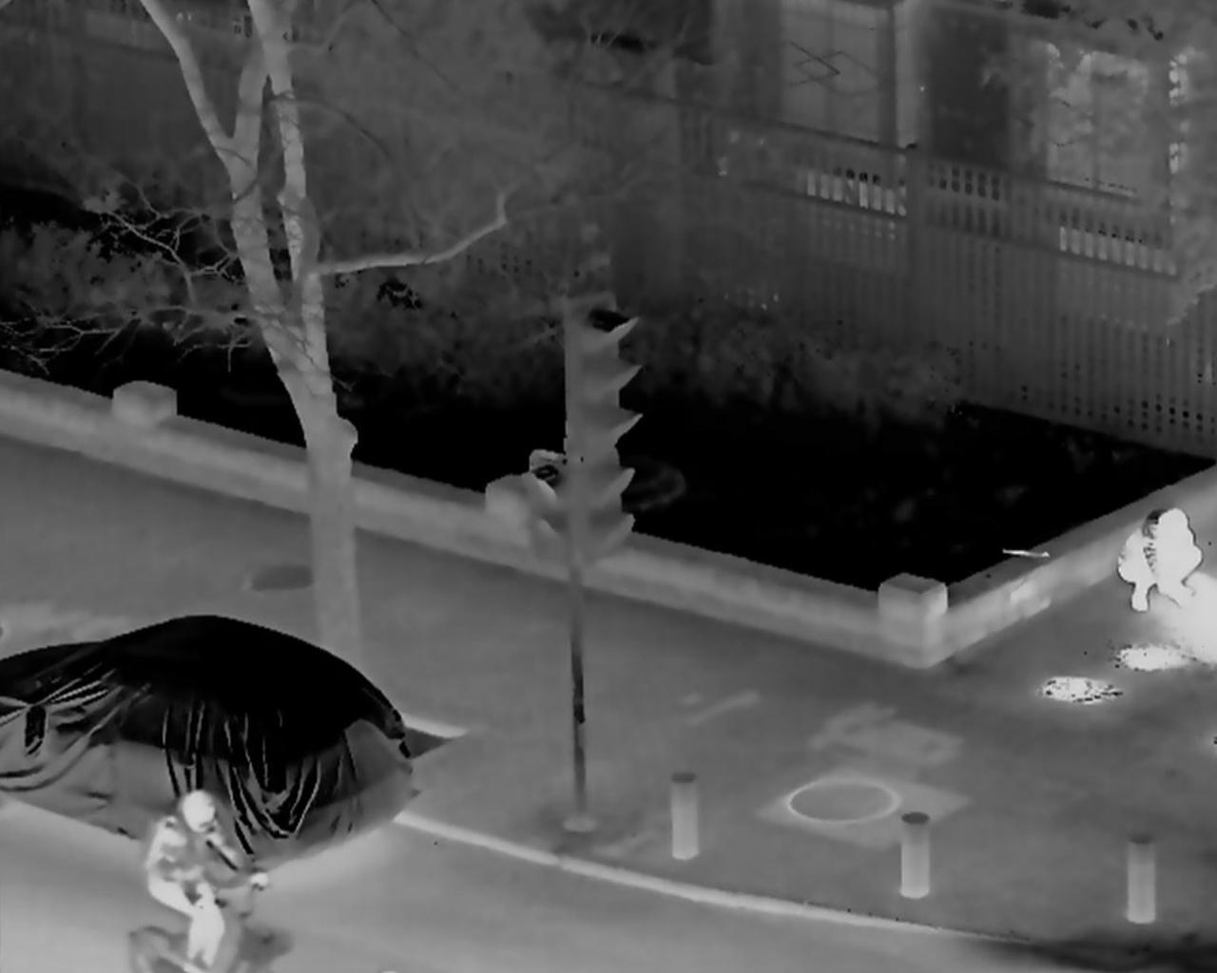person: (146, 795, 250, 973), (1111, 506, 1201, 623)
